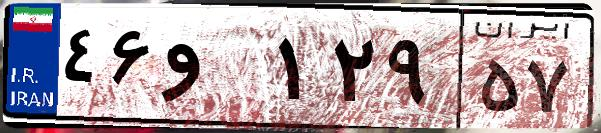1: (270, 28, 330, 110)
2: (330, 28, 385, 110)
4: (57, 26, 110, 100)
5: (475, 38, 525, 113)
6: (110, 28, 158, 98)
7: (525, 38, 570, 115)
9: (385, 28, 445, 110)
و: (158, 20, 270, 120)
